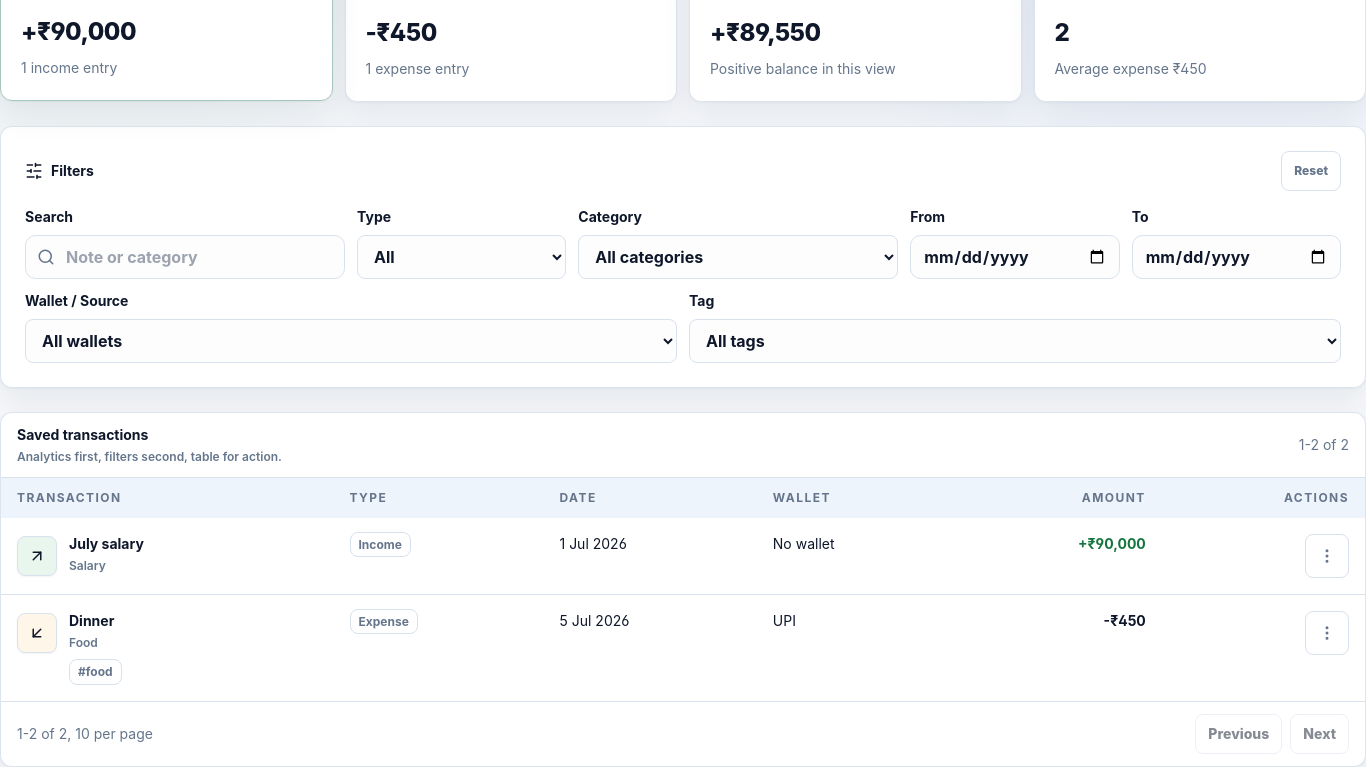
it: TransactionList › updates an existing transaction from the inline edit form
This screenshot has width=1366, height=767.
(page scrolled)
Expected: the text "Dinner" is shown, [69,611,122,631]
Click the button named "Open actions for Dinner transaction": (1327, 633) [1305,611,1349,655]
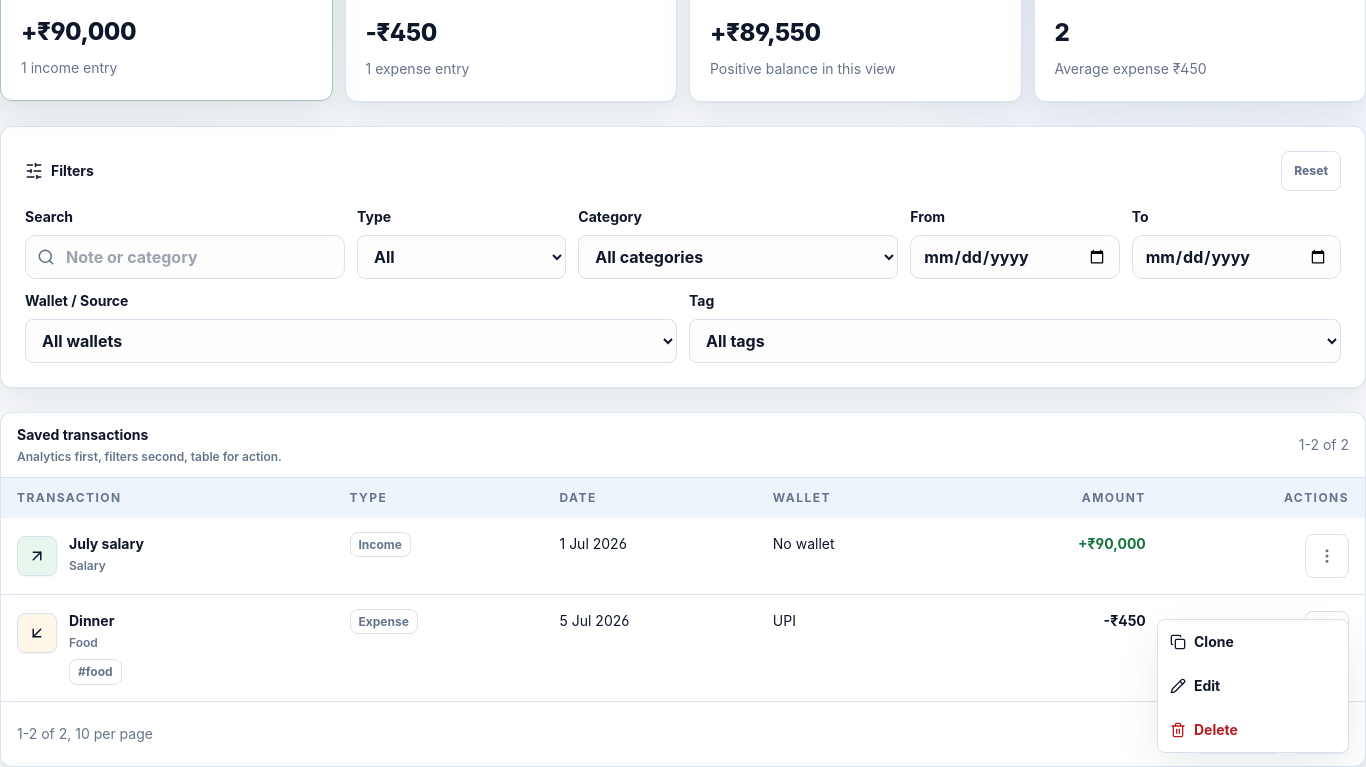
Click the button with aria-label "Edit Dinner transaction": (1253, 686) [1158,664,1348,708]
(page scrolled)
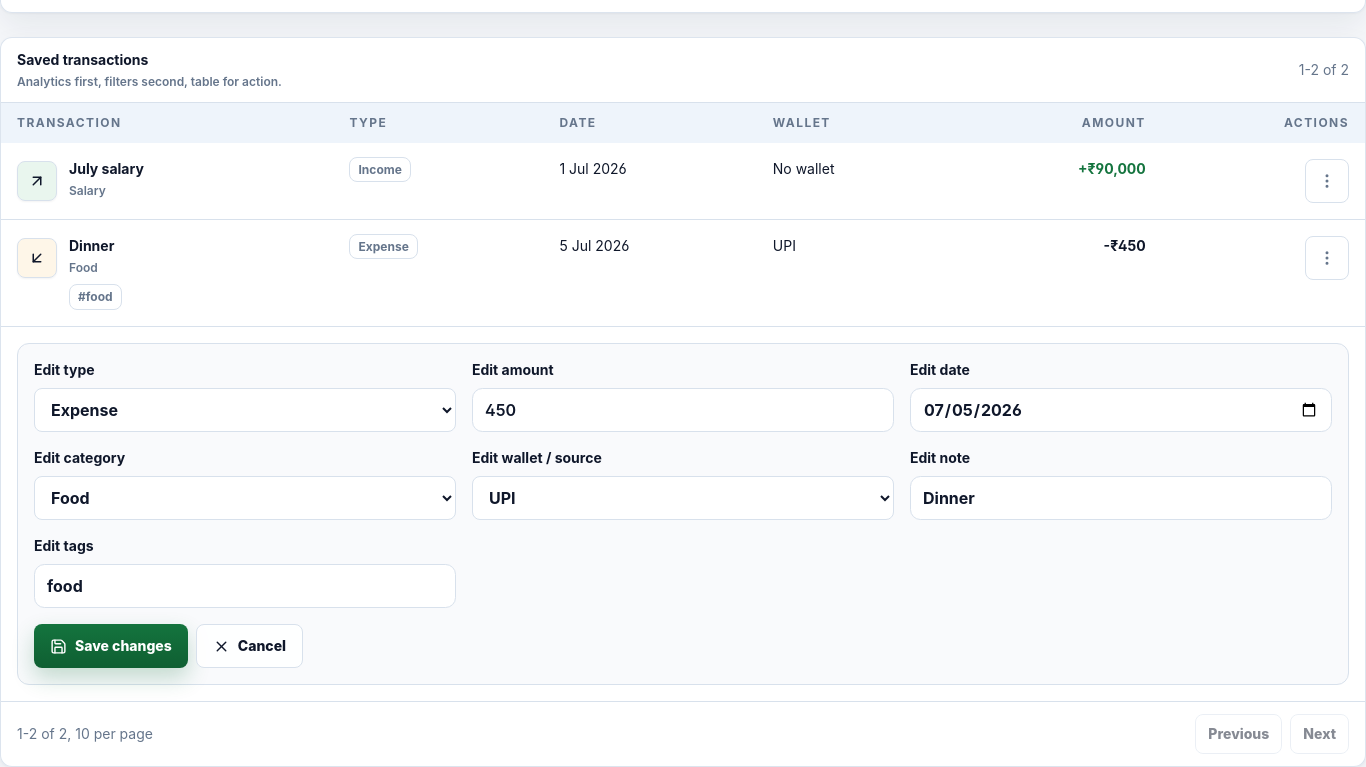
Replace the text in the field labelled "Edit amount" with "500": (683, 410) [472,388,894,432]
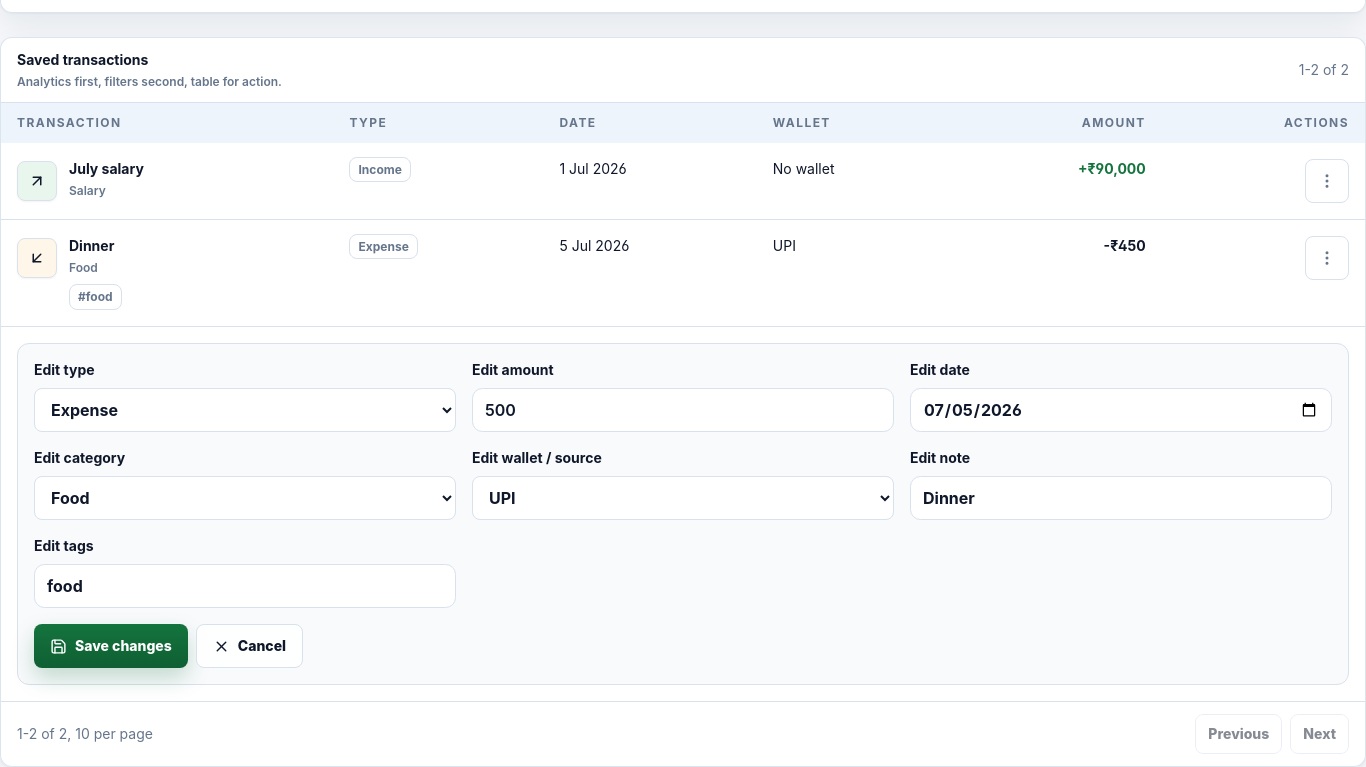
Replace the text in the field labelled "Edit note" with " Dinner with tip ": (1121, 498) [910,476,1332,520]
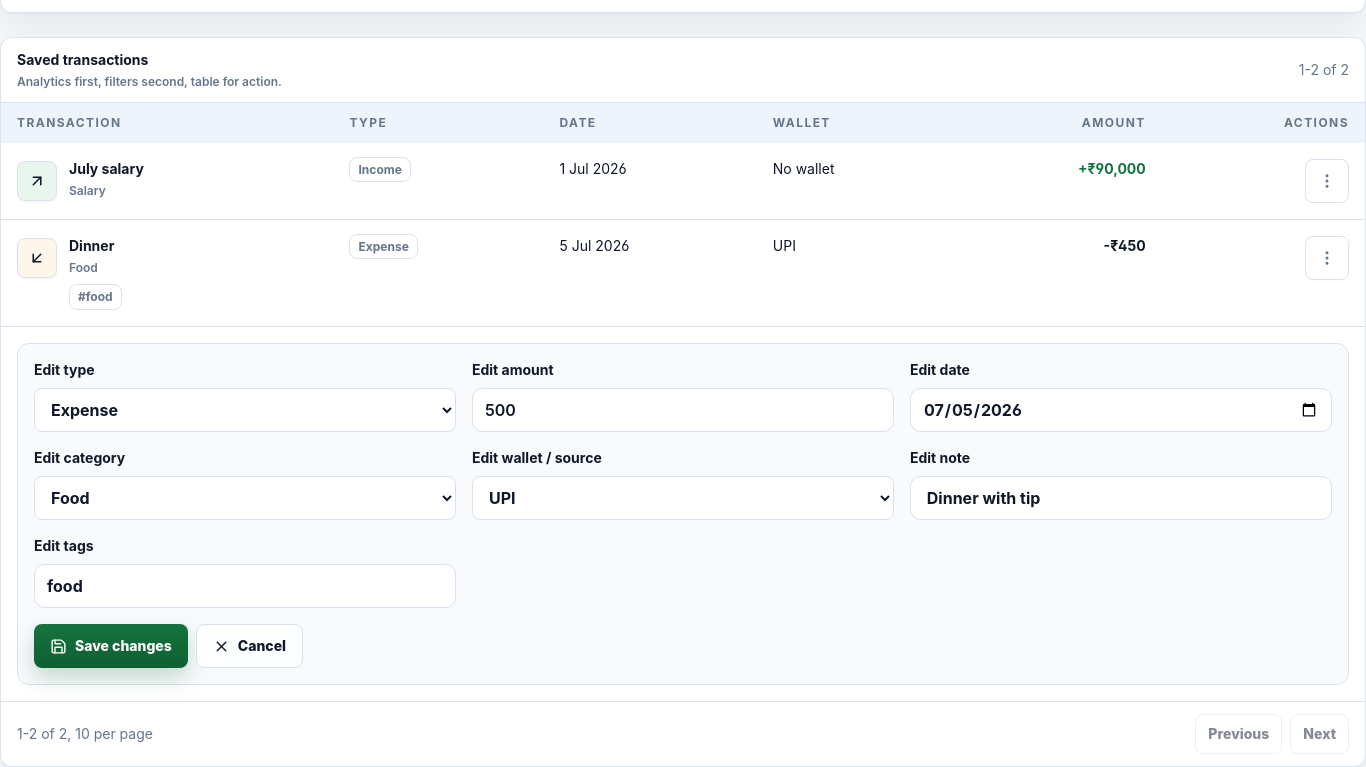
Click the button "Save changes": (111, 646) [34,624,188,668]
(page scrolled)
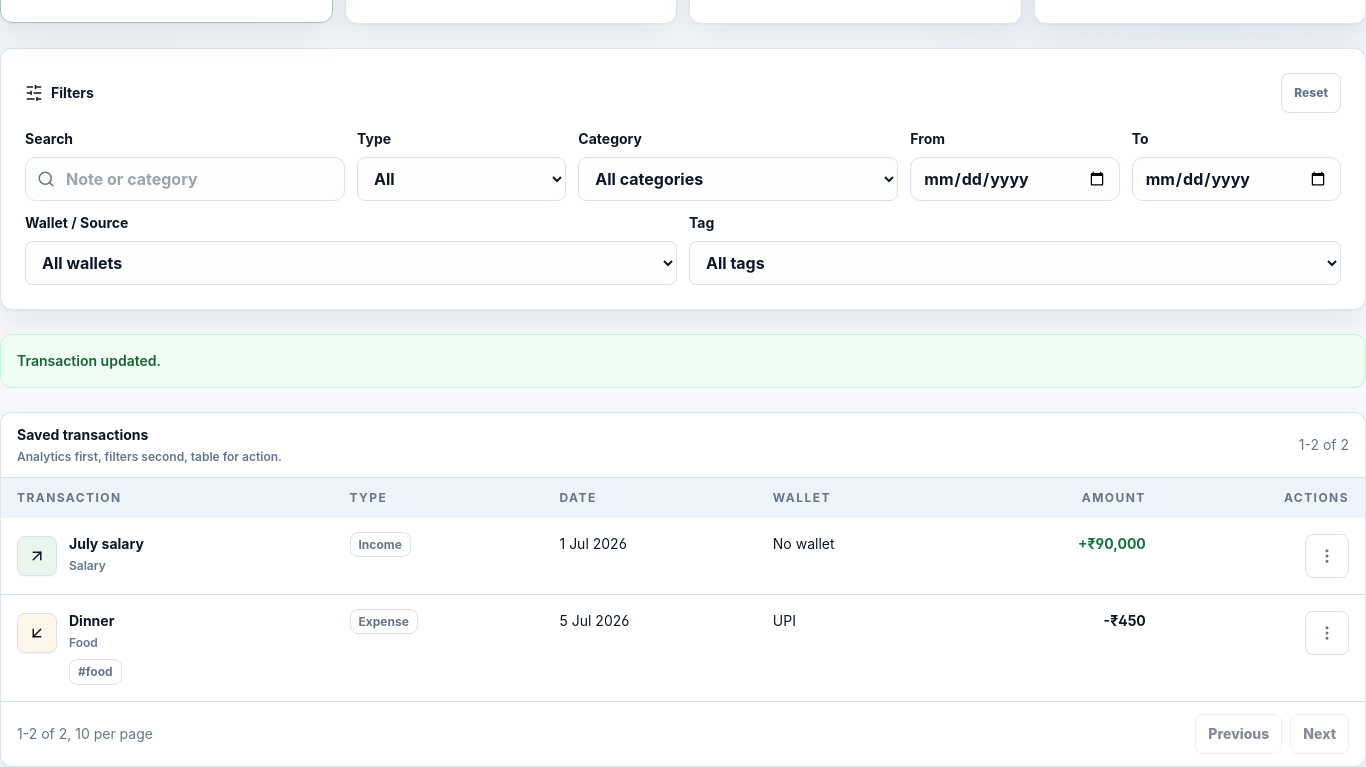
Expected: the message reads "Transaction updated.", [17,352,161,369]
